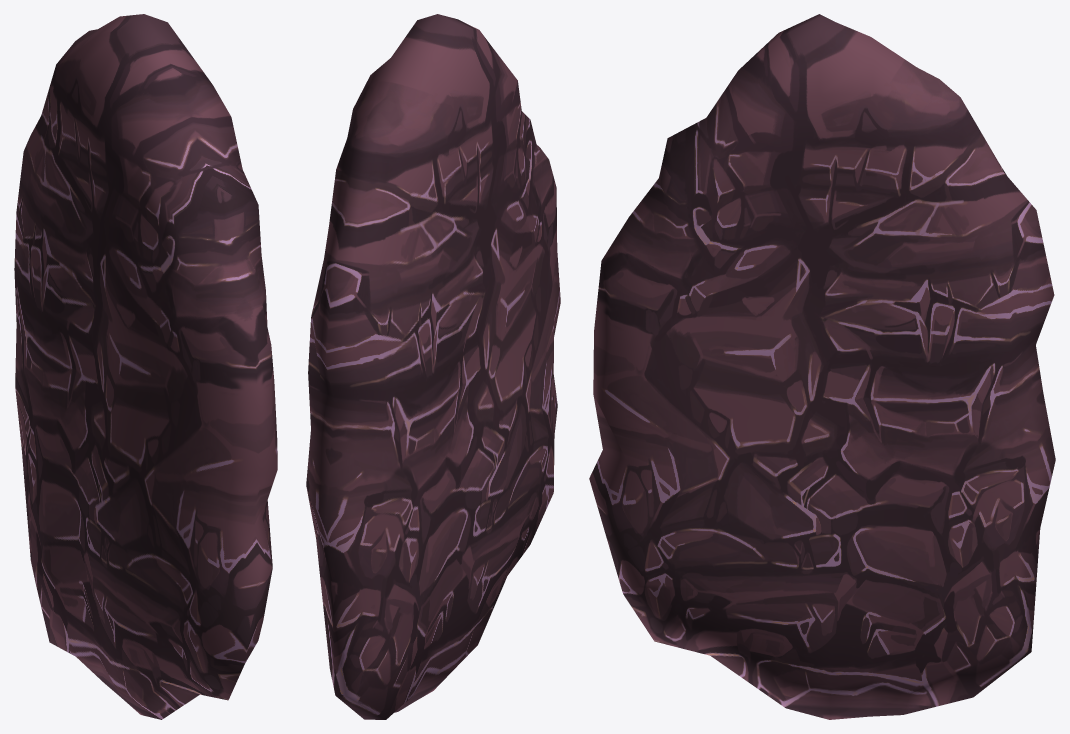
File: tt_forest_rock_modular01.FBX
3 renders of one model, left to right at view 1: azimuth 30°, elevation 25°; view 2: azimuth 150°, elevation 25°; view 3: azimuth 270°, elevation 25°, orthographic. The views are drawn at different scales.
Visible parts, largest first — view 1: Box028; view 2: Box028; view 3: Box028.
Part boxes in pixels (box(x1,y1,x2,y2)): Box028: box(14, 14, 277, 719); Box028: box(306, 14, 560, 719); Box028: box(589, 14, 1055, 719).
Size of the model in its own units: 454 by 3061 by 1840.
